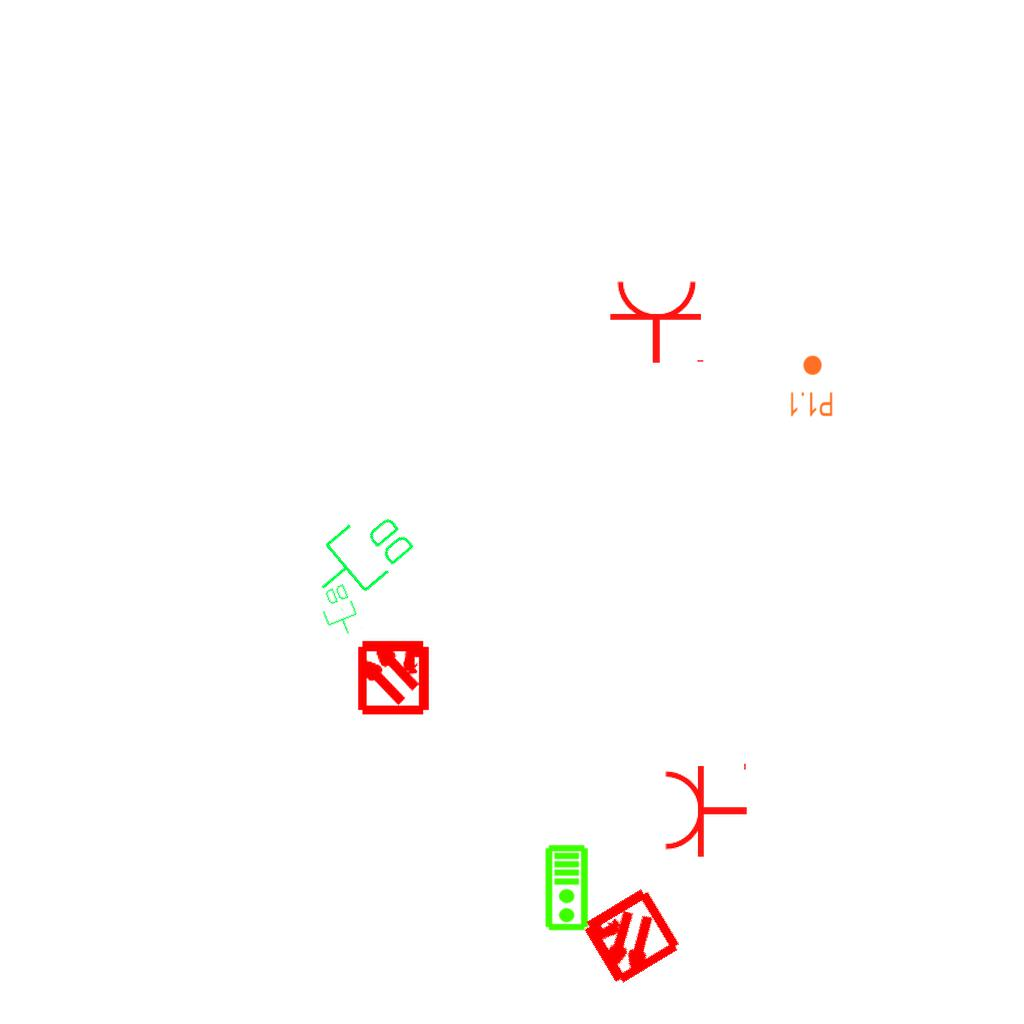Datenanschluss_zweifach: (298, 496, 423, 617), (314, 580, 365, 642)
Downlight_LED_Einbauleuchten_Flur: (788, 354, 834, 418)
Gegensprechanlage_mit_Video: (544, 844, 591, 932)
OT_Multisensormelder_(Kombination_RMO_WMD): (551, 859, 708, 1016), (337, 619, 450, 732)
Schukosteckdose_einfach: (608, 278, 708, 365), (662, 759, 749, 859)
